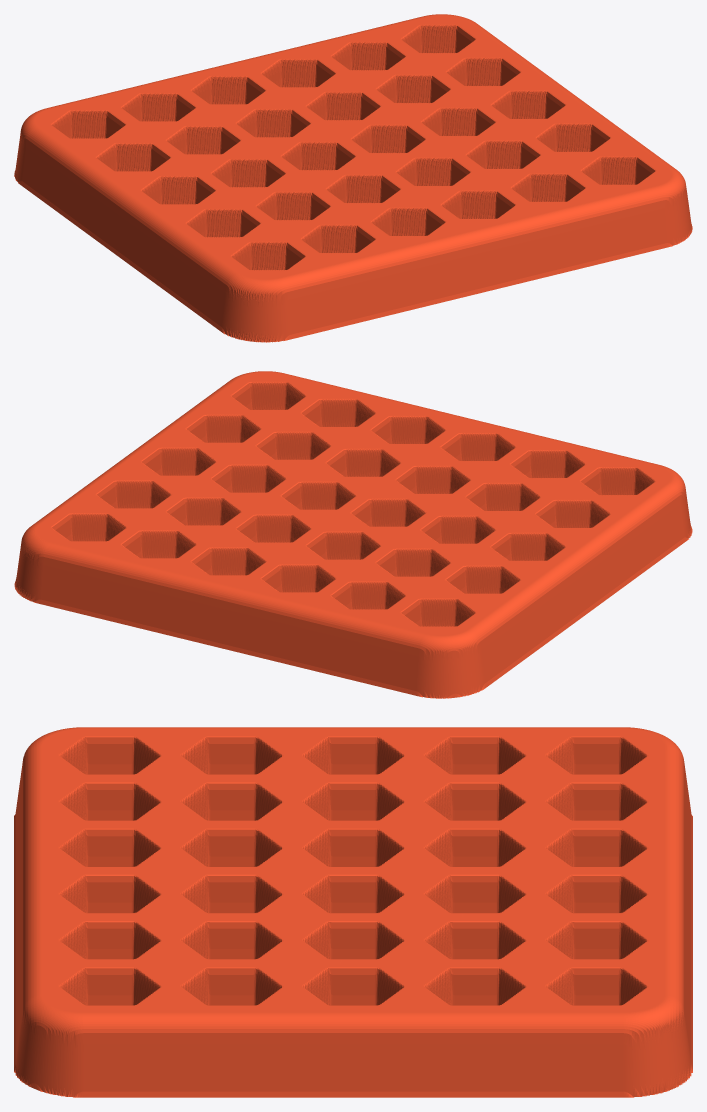
Rendered from mold.glb.
The picture shows the model from 3 angles, top to bottom: view 1: azimuth 30°, elevation 25°; view 2: azimuth 150°, elevation 25°; view 3: azimuth 270°, elevation 25°; orthographic projection. The views are drawn at different scales.
Visible parts, largest first — view 1: geometry_0; view 2: geometry_0; view 3: geometry_0.
Part boxes in pixels (x1=…): geometry_0: x1=14, y1=14, x2=692, y2=342; geometry_0: x1=14, y1=371, x2=692, y2=698; geometry_0: x1=14, y1=727, x2=692, y2=1097.
Bounding box in the file's own units: 0.0944 × 0.0105 × 0.0882.
